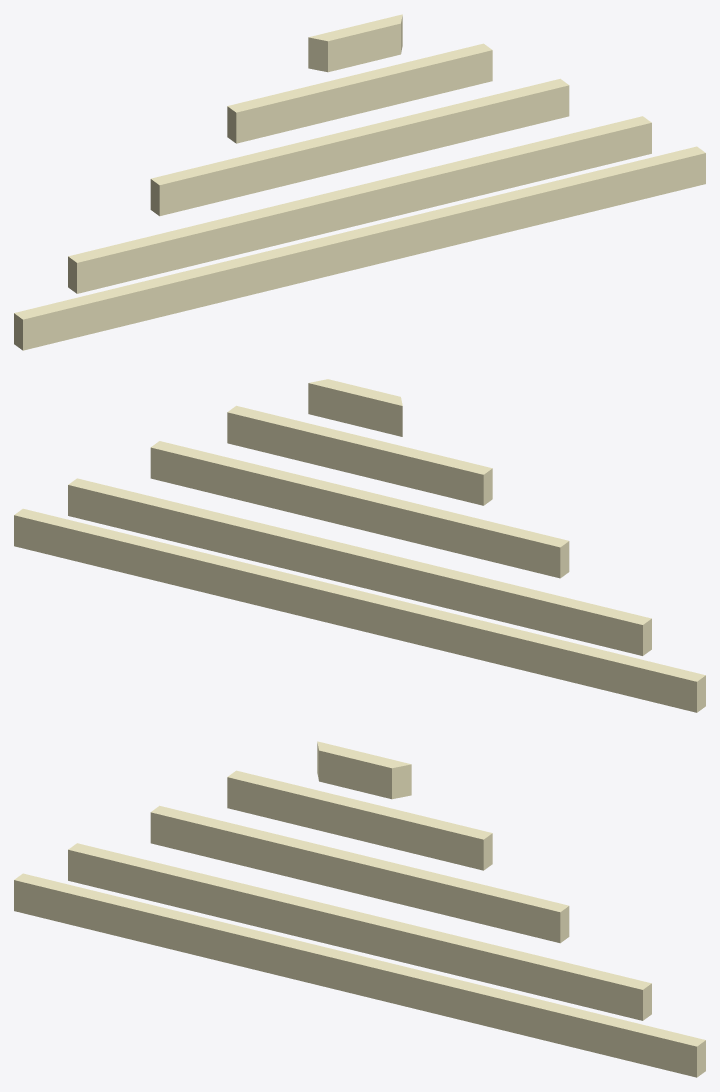
Rendered from Viga.fbx.
3 renders of one model, top to bottom at view 1: azimuth 30°, elevation 25°; view 2: azimuth 150°, elevation 25°; view 3: azimuth 330°, elevation 25°, orthographic.
Parts seen in each view (by area): view 1: Viga; view 2: Viga; view 3: Viga.
Boxes of the visible parts, box(x1,y1,x2,y2) form: Viga: box(14, 14, 705, 350); Viga: box(14, 379, 705, 712); Viga: box(14, 741, 705, 1077).
Bounding box in the file's own units: 1583 × 520 × 36.08.
